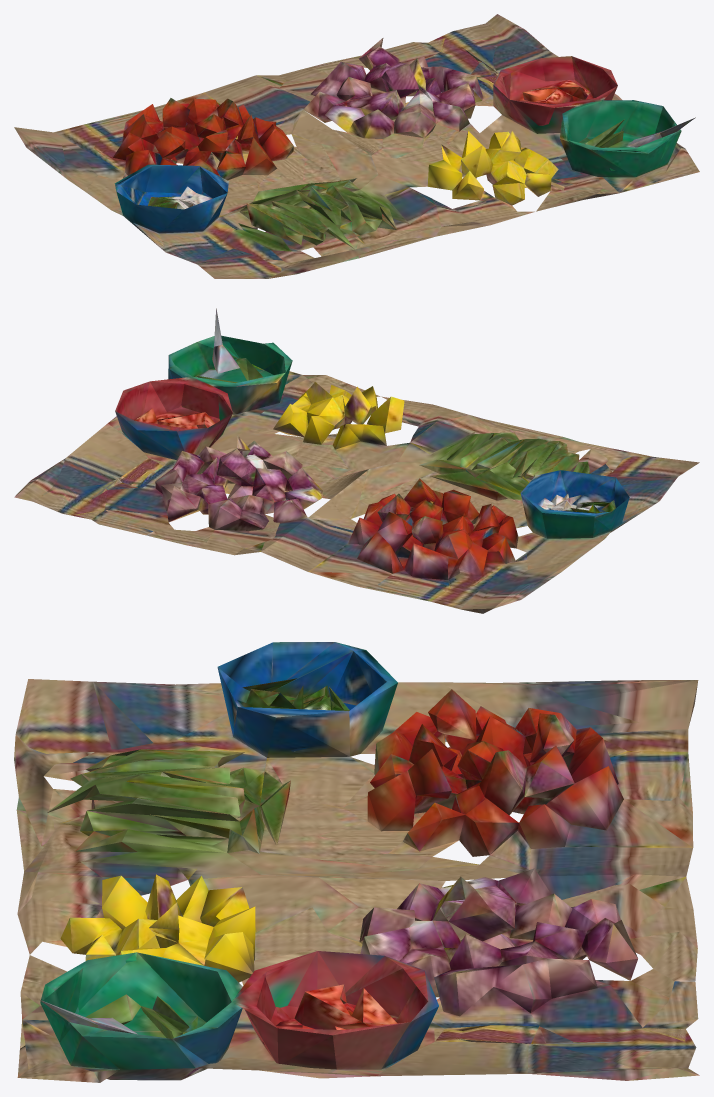
File: vegmat.glb
3 renders of one model, top to bottom at view 1: azimuth 30°, elevation 25°; view 2: azimuth 150°, elevation 25°; view 3: azimuth 270°, elevation 25°, orthographic. The views are drawn at different scales.
Size of the model in its own units: 1.88 by 0.2196 by 1.37.
1 material, 1 textured.
